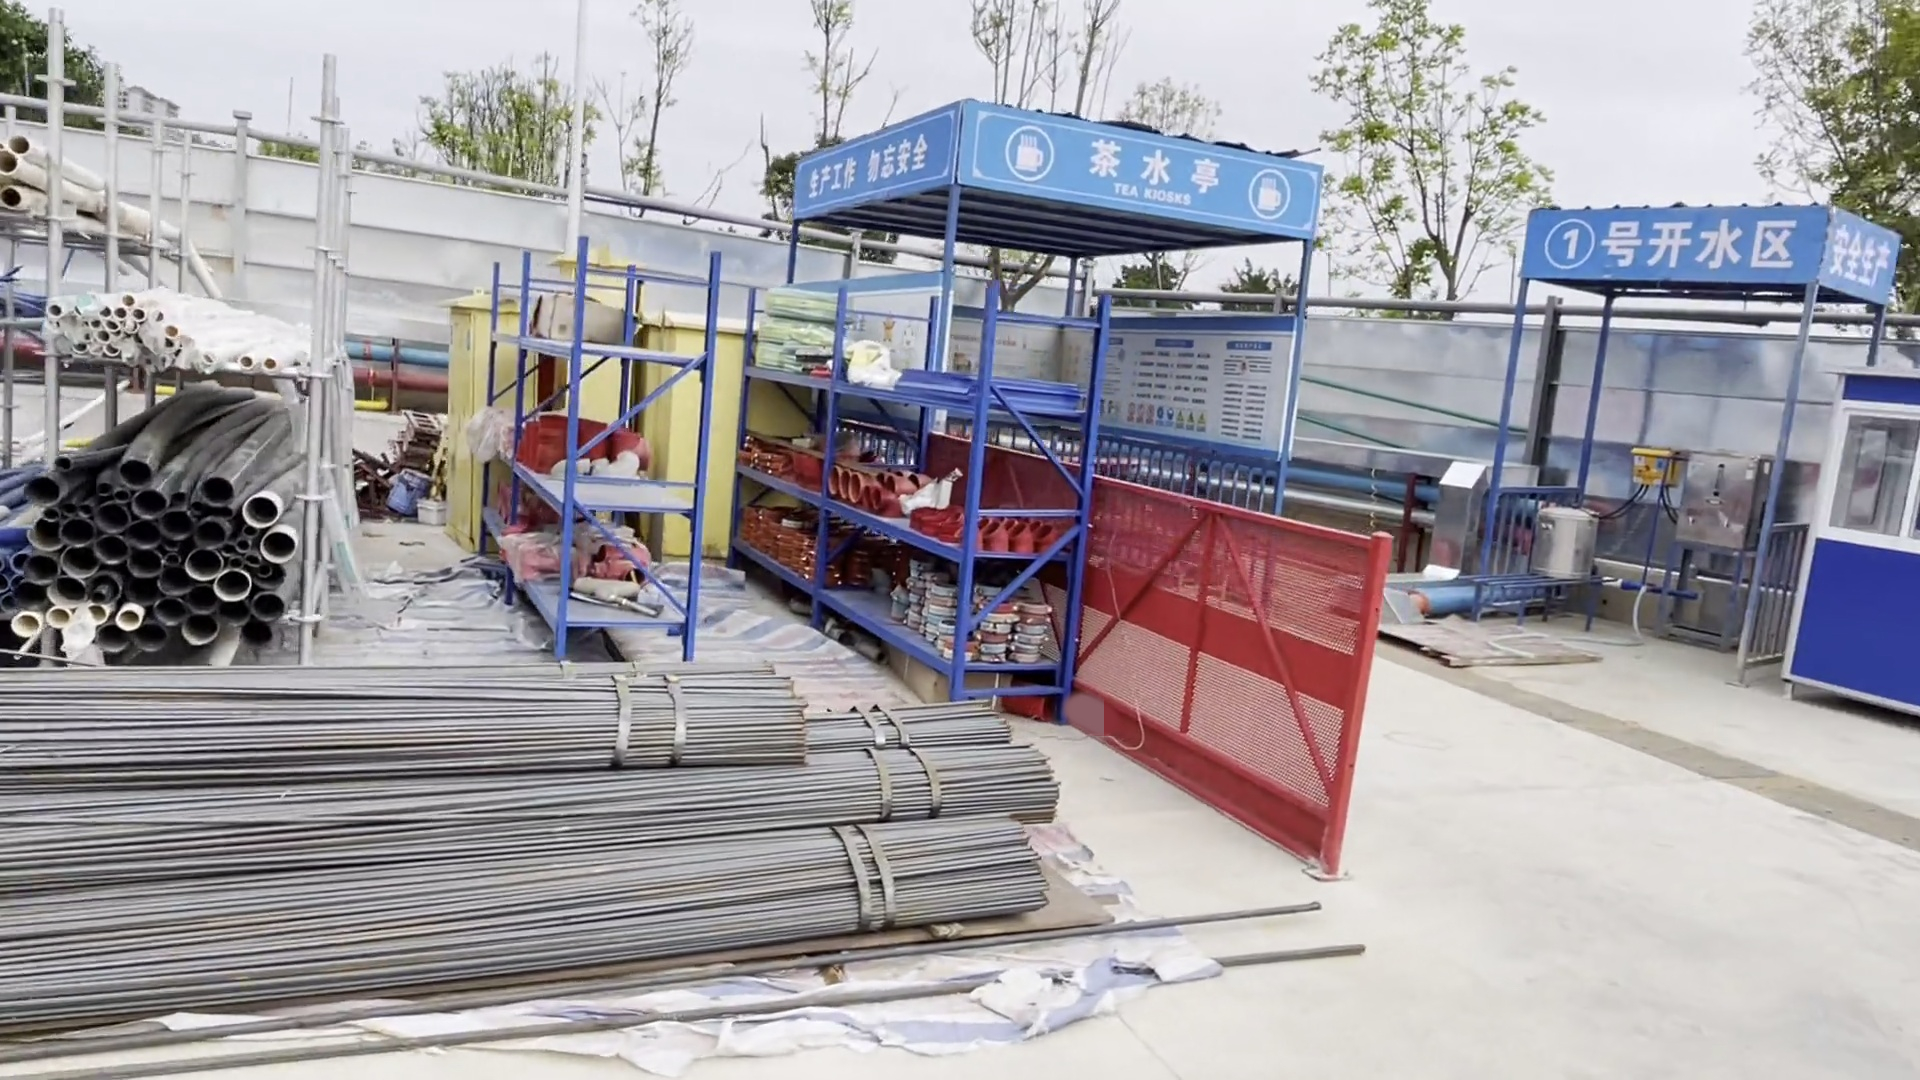ebox: (444, 249, 737, 559), (1630, 444, 1672, 484)
fence: (1073, 465, 1393, 909)
rebar: (3, 662, 1065, 1034)
slogan: (785, 102, 963, 219), (1807, 207, 1896, 305)
